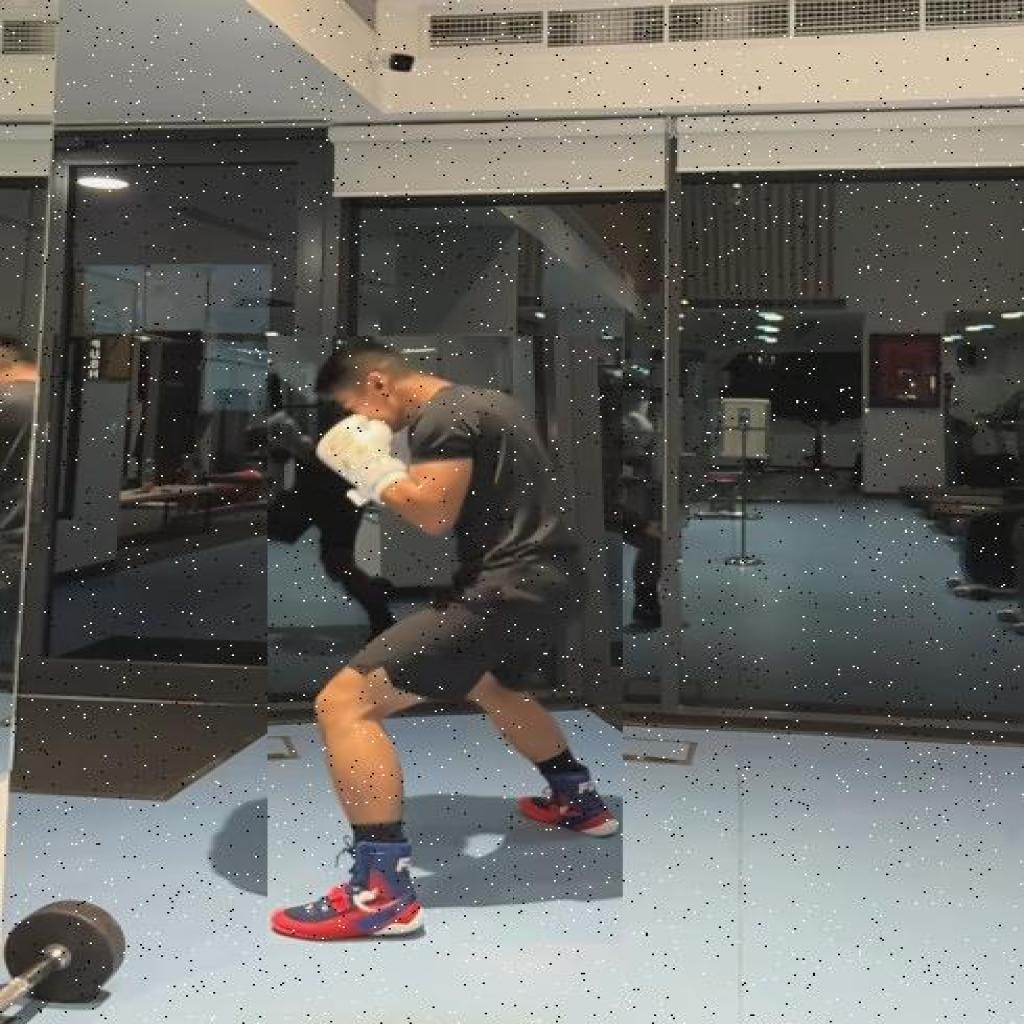no punch: (268, 336, 622, 943)
